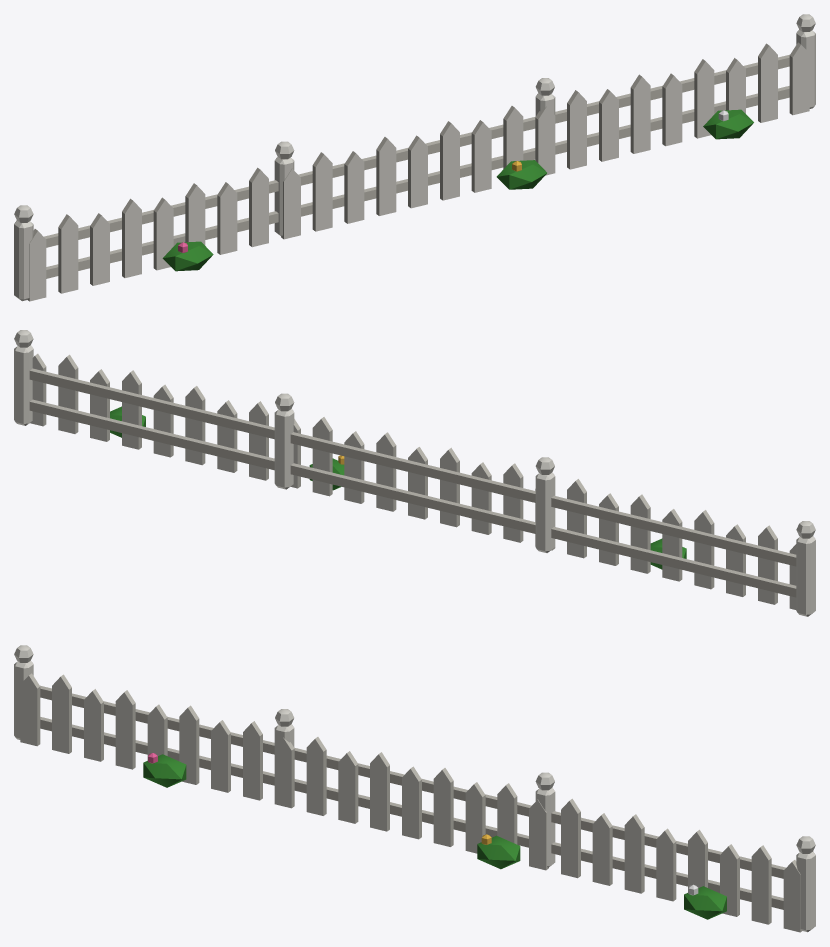
File: edge_side.glb
3 renders of one model, top to bottom at view 1: azimuth 30°, elevation 25°; view 2: azimuth 150°, elevation 25°; view 3: azimuth 330°, elevation 25°, orthographic.
Parts seen in each view (by area): view 1: body; view 2: body; view 3: body.
Boxes of the visible parts, box(x1,y1,x2,y2) form: body: box(14, 14, 815, 301); body: box(14, 330, 815, 616); body: box(14, 645, 815, 932).
Size of the model in its own units: 7.52 by 0.84 by 0.43.
